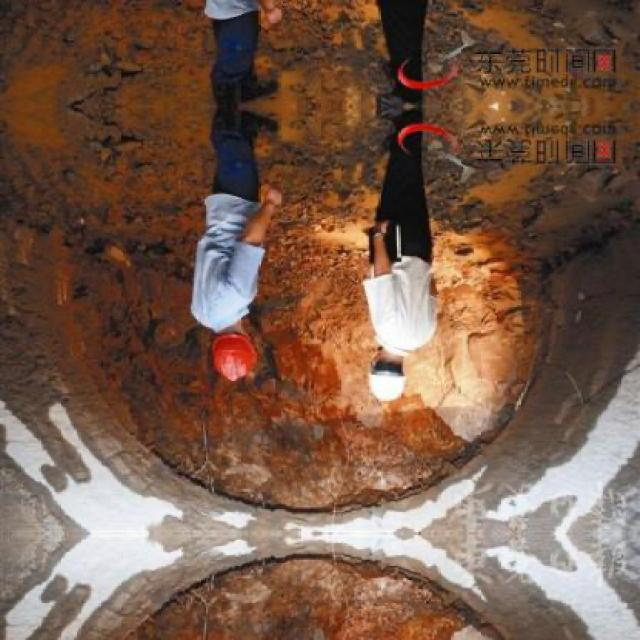con casco: (328, 336, 413, 419), (196, 294, 252, 393)
